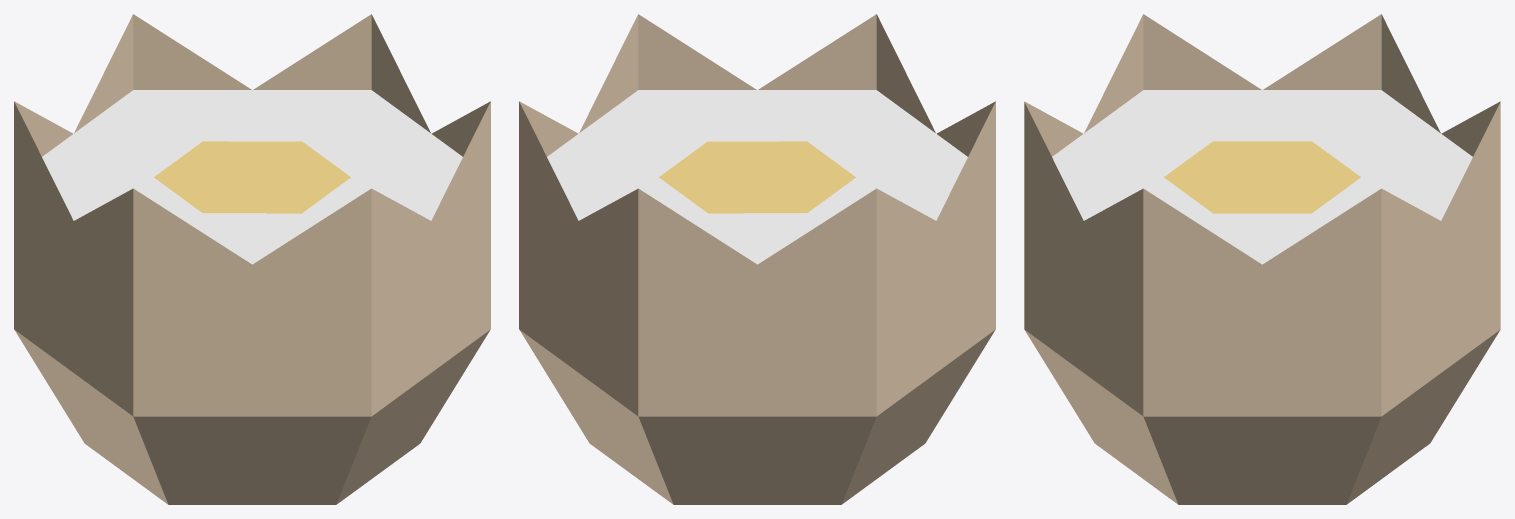
File: egg-half.glb
3 renders of one model, left to right at view 1: azimuth 30°, elevation 25°; view 2: azimuth 150°, elevation 25°; view 3: azimuth 270°, elevation 25°, orthographic.
Visible parts, largest first — view 1: eggHalf; view 2: eggHalf; view 3: eggHalf.
Part boxes in pixels (x1=…): eggHalf: x1=14, y1=14, x2=490, y2=504; eggHalf: x1=519, y1=14, x2=995, y2=504; eggHalf: x1=1024, y1=14, x2=1500, y2=504.
Size of the model in its own units: 0.1161 by 0.1062 by 0.134.
